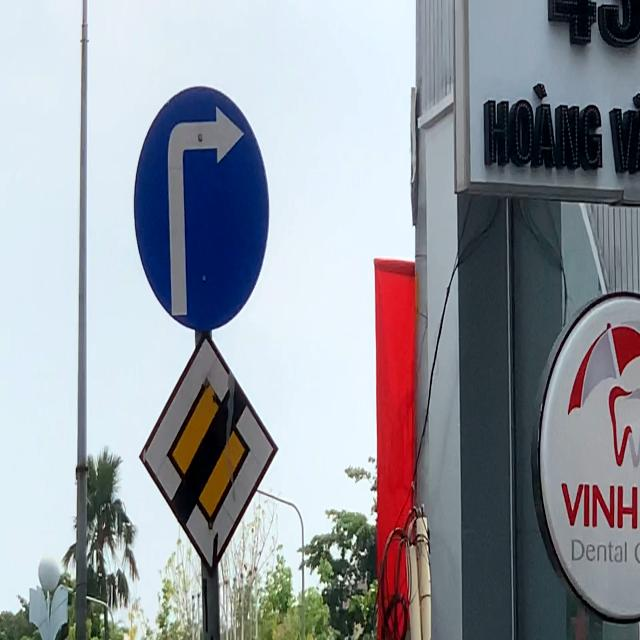R.301d: (133, 86, 270, 334)
